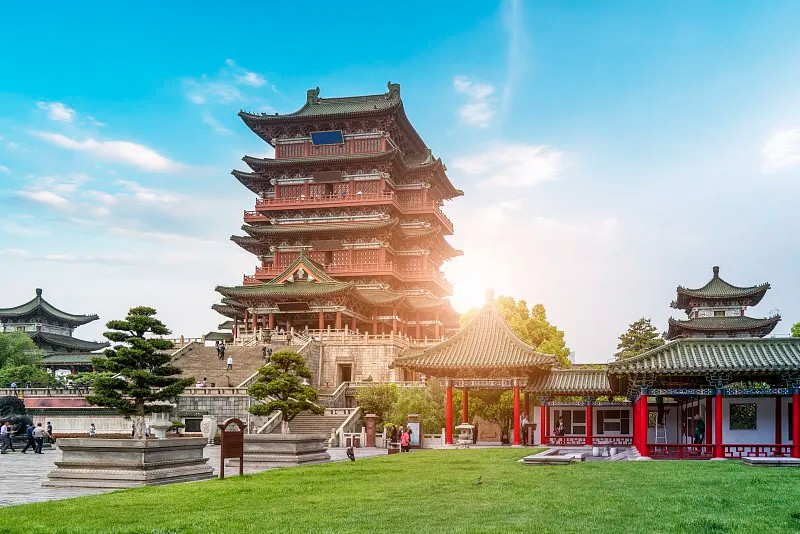Teng: (211, 83, 465, 339)
